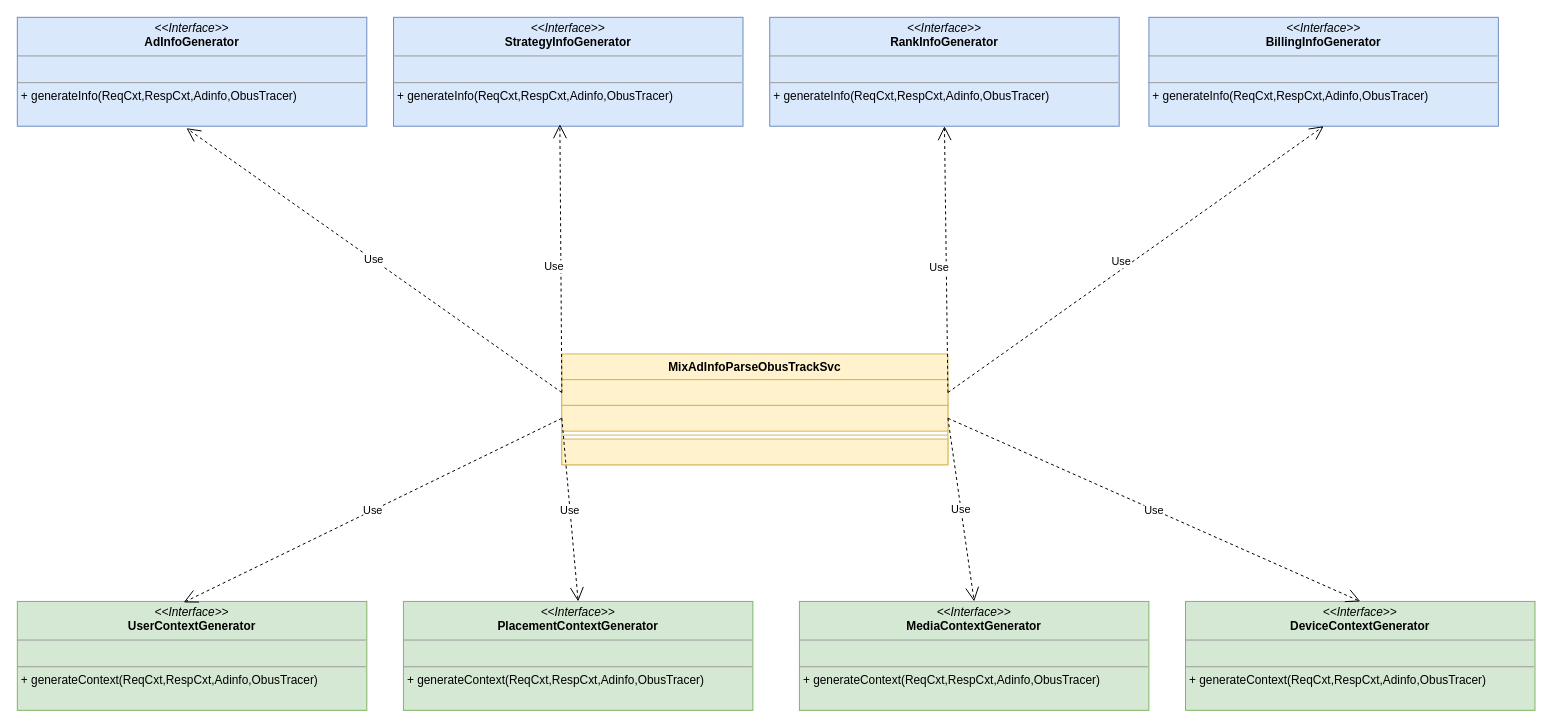
Image size: 1552x728. Some labels were removed from this diagram. The shapes that lost their labels are listed below. From the top down, each one's centre as x and y in pixels, then its label:
At (x=754, y=392): "+ infoGenerators: List<~>".
At (x=754, y=417): "+ contextGenerators: List<~>".
At (x=754, y=451): "+ generateObusTrack(ReqCxt,RespCxt,Adinfo,ObusTracer)".
